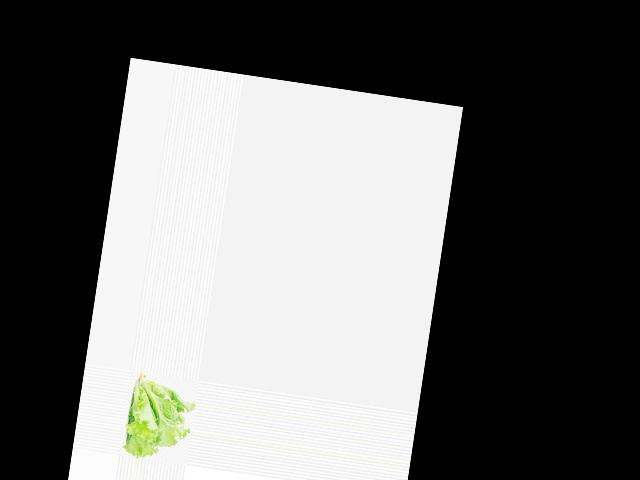lettuce: (123, 371, 198, 464)
